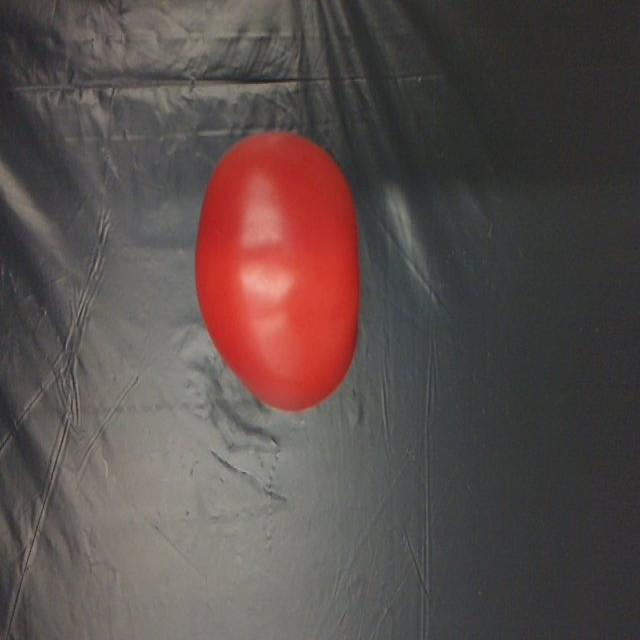kirmizi: (200, 134, 363, 414)
